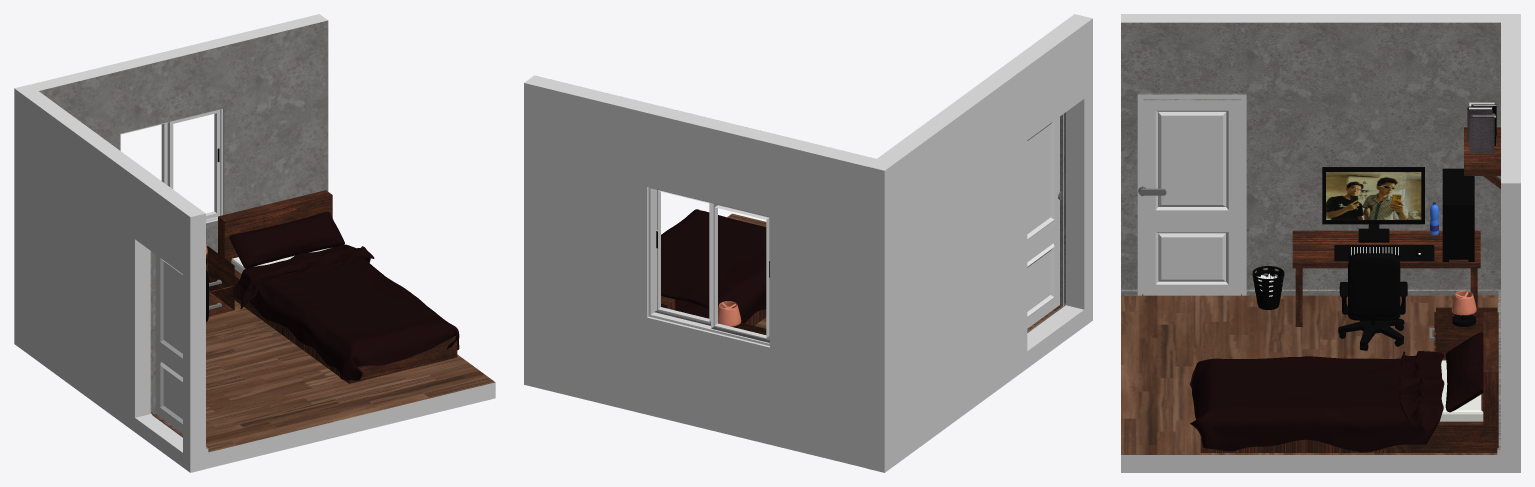
File: room.glb
3 views of the same model, side by side, from view 1: azimuth 30°, elevation 25°; view 2: azimuth 150°, elevation 25°; view 3: azimuth 270°, elevation 25° (orthographic). The views are drawn at different scales.
Visible parts, largest first — view 1: Habitacion_0, Left_ExtWall, sabana_6, Cama_4, Door_Hinge, Cojin_5, Mesa noche_25; view 2: Habitacion_0, Left_ExtWall, sabana_6, Door_Hinge; view 3: Habitacion_0, sabana_6, Door_Hinge, Pantalla_20, Cama_4, Silla_22, Mesa_18, Left_ExtWall, Ordenador_19, Cojin_5, Mesa noche_25, Libros_28 (+5 smaller).
Part boxes in pixels (box(x1,y1,x2,y2)): Habitacion_0: box(30, 14, 495, 468); Left_ExtWall: box(14, 84, 205, 472); sabana_6: box(231, 244, 459, 380); Cama_4: box(218, 190, 457, 383); Door_Hinge: box(152, 252, 182, 433); Cojin_5: box(229, 211, 344, 268); Mesa noche_25: box(206, 246, 234, 316); Habitacion_0: box(524, 75, 1065, 468); Left_ExtWall: box(866, 14, 1092, 472); sabana_6: box(661, 209, 766, 323); Door_Hinge: box(1027, 114, 1063, 328); Habitacion_0: box(1121, 22, 1520, 472); sabana_6: box(1190, 351, 1444, 452); Door_Hinge: box(1137, 95, 1246, 295); Pantalla_20: box(1322, 167, 1424, 242); Cama_4: box(1200, 312, 1498, 452); Silla_22: box(1338, 253, 1407, 350); Mesa_18: box(1292, 230, 1480, 326); Left_ExtWall: box(1121, 14, 1520, 22); Ordenador_19: box(1442, 168, 1474, 261); Cojin_5: box(1445, 332, 1483, 412); Mesa noche_25: box(1429, 307, 1497, 360); Libros_28: box(1467, 102, 1496, 152).
Bounding box in the file's own units: 9.96 × 7.72 × 9.64.
21 materials, 7 textured.
